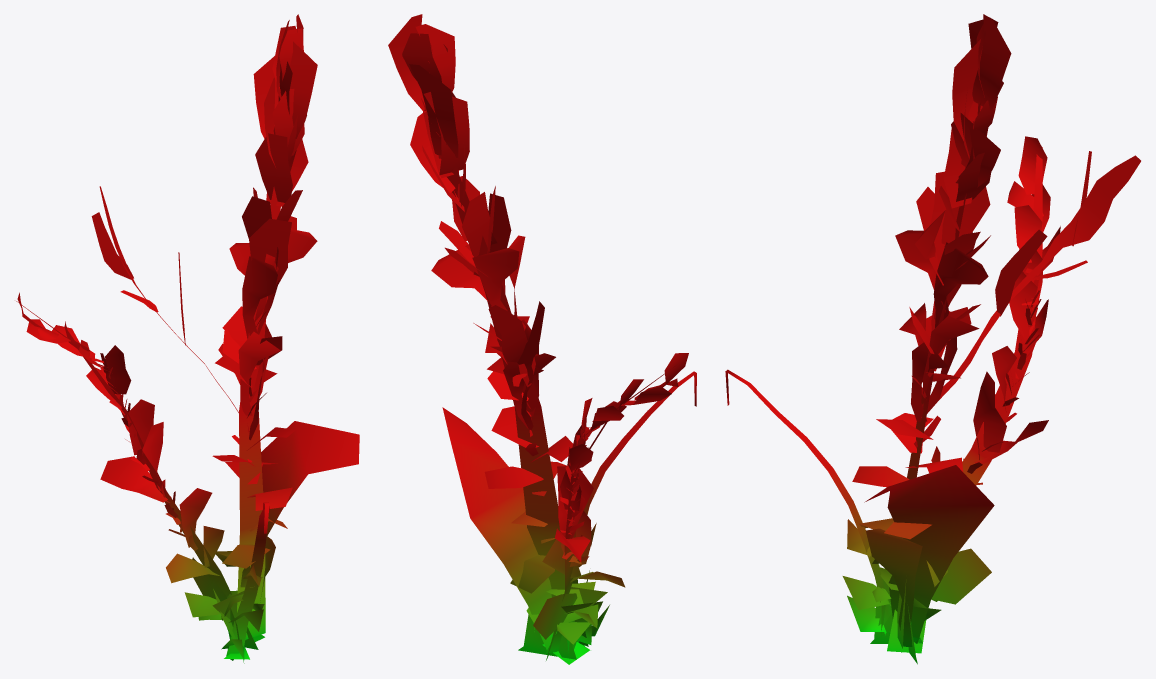
Rendered from Myricaria_LOD1_Var4_tfbldaor.fbx.
The picture shows the model from 3 angles, left to right: view 1: azimuth 30°, elevation 25°; view 2: azimuth 150°, elevation 25°; view 3: azimuth 270°, elevation 25°; orthographic projection. The views are drawn at different scales.
Visible parts, largest first — view 1: _167b_Var4_LOD1; view 2: _167b_Var4_LOD1; view 3: _167b_Var4_LOD1.
Boxes of the visible parts, x1,y1,x2,y2 form: _167b_Var4_LOD1: [16, 14, 359, 663]; _167b_Var4_LOD1: [388, 14, 696, 664]; _167b_Var4_LOD1: [725, 14, 1140, 664].
Bounding box in the file's own units: 26.55 × 53.21 × 28.88.
